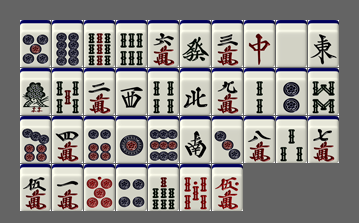0m: (212, 164, 243, 211)
0p: (84, 164, 115, 211)
0s: (180, 164, 211, 211)
1m: (52, 164, 83, 211)
1p: (116, 116, 147, 163)
1s: (20, 68, 51, 115)
1z: (308, 20, 339, 67)
2m: (84, 68, 115, 115)
2p: (276, 68, 307, 115)
2s: (244, 68, 275, 115)
2z: (180, 116, 211, 163)
3m: (212, 20, 243, 67)
3p: (212, 116, 243, 163)
3s: (276, 116, 307, 163)
3z: (116, 68, 147, 115)
4m: (52, 116, 83, 163)
4p: (116, 164, 147, 211)
4s: (148, 68, 179, 115)
4z: (180, 68, 211, 115)
5m: (20, 164, 51, 211)
5p: (20, 20, 51, 67)
5s: (52, 68, 83, 115)
5z: (276, 20, 307, 67)
6m: (148, 20, 179, 67)
6p: (84, 116, 115, 163)
6s: (116, 20, 147, 67)
6z: (180, 20, 211, 67)
7m: (308, 116, 339, 163)
7p: (20, 116, 51, 163)
7s: (148, 164, 179, 211)
7z: (244, 20, 275, 67)
8m: (244, 116, 275, 163)
8p: (52, 20, 83, 67)
8s: (308, 68, 339, 115)
9m: (212, 68, 243, 115)
9p: (148, 116, 179, 163)
9s: (84, 20, 115, 67)
